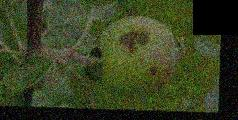rotten apple: (94, 14, 177, 96)
